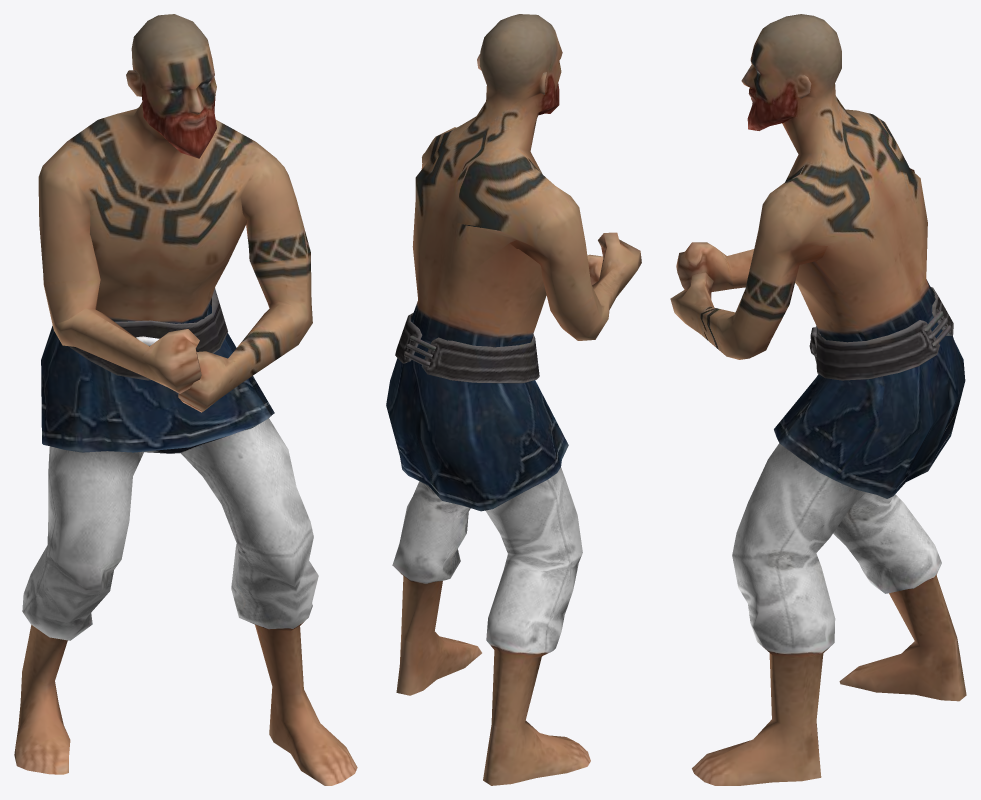
File: body-base.glb
3 views of the same model, side by side, from view 1: azimuth 30°, elevation 25°; view 2: azimuth 150°, elevation 25°; view 3: azimuth 270°, elevation 25° (orthographic). The views are drawn at different scales.
Size of the model in its own units: 0.6807 by 1.92 by 0.7311.
1 material, 1 textured.
